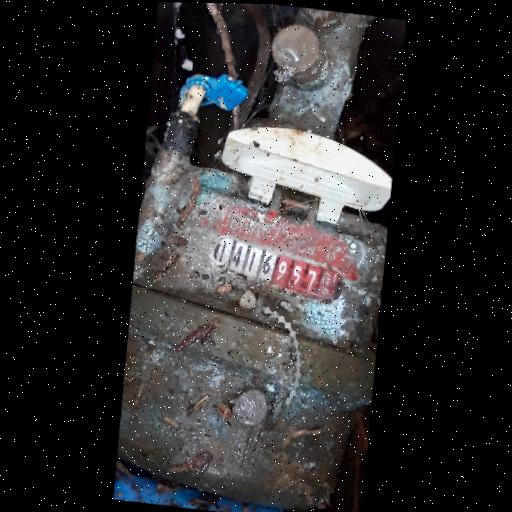1: (243, 245, 266, 279), (214, 237, 236, 271), (319, 269, 340, 304)
4: (228, 240, 252, 275)
5: (287, 257, 310, 294)
6: (257, 249, 280, 283)
7: (300, 261, 326, 299)
9: (272, 253, 296, 288)
border_water_meter_number: (206, 232, 352, 309)
